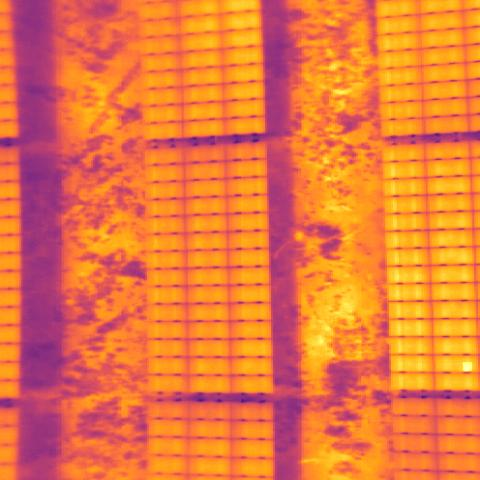fault: (463, 362, 472, 371)
